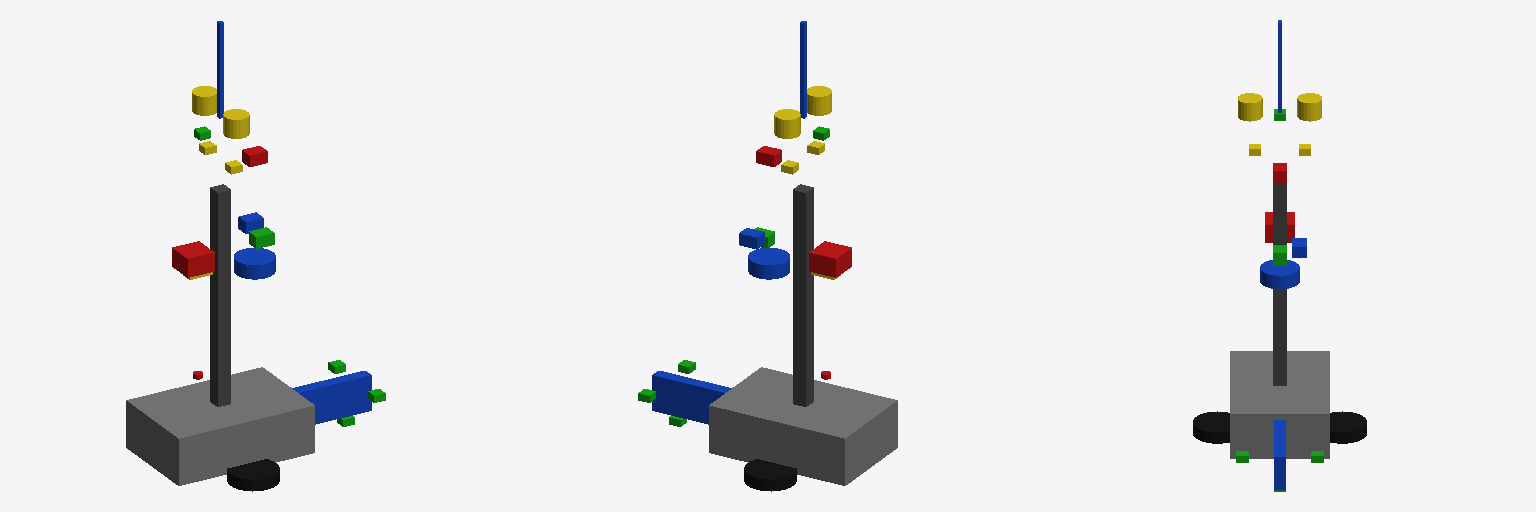
robot.urdf — patrol_security_bot:
<?xml version="1.0"?>
<robot name="patrol_security_bot" xmlns:xacro="http://www.ros.org/wiki/xacro">

  <!-- ================== MATERIALS ================== -->
  <material name="gray">
    <color rgba="0.5 0.5 0.5 1.0"/>
  </material>
  <material name="dark_gray">
    <color rgba="0.3 0.3 0.3 1.0"/>
  </material>
  <material name="black">
    <color rgba="0.1 0.1 0.1 1.0"/>
  </material>
  <material name="blue">
    <color rgba="0.1 0.3 0.8 1.0"/>
  </material>
  <material name="green">
    <color rgba="0.1 0.7 0.1 1.0"/>
  </material>
  <material name="red">
    <color rgba="0.8 0.1 0.1 1.0"/>
  </material>
  <material name="yellow">
    <color rgba="0.9 0.8 0.1 1.0"/>
  </material>

  <!-- ================== BASE BODY ================== -->
  <link name="base_link">
    <inertial>
      <origin xyz="0 0 0" rpy="0 0 0"/>
      <mass value="20.0"/>
      <!-- kabaca box(0.6,0.4,0.2) için atalet -->
      <inertia ixx="0.33" ixy="0.0" ixz="0.0"
               iyy="0.67" iyz="0.0"
               izz="0.87"/>
    </inertial>

    <!-- görsel: STL gövde -->
    <visual>
      <origin xyz="0 0 0" rpy="0 0 0"/>
      <geometry>
        <mesh filename="../meshes/base/base_body.stl" scale="1 1 1"/>
      </geometry>
      <material name="gray"/>
    </visual>

    <!-- çarpışma: basit kutu -->
    <collision>
      <origin xyz="0 0 0" rpy="0 0 0"/>
      <geometry>
        <box size="0.6 0.4 0.2"/>
      </geometry>
    </collision>
  </link>

  <!-- ================== DRIVE SİSTEMİ ================== -->

  <!-- Sol tahrik tekeri -->
  <link name="left_wheel_link">
    <inertial>
      <origin xyz="0 0 0" rpy="0 0 0"/>
      <mass value="2.0"/>
      <inertia ixx="0.01" ixy="0" ixz="0"
               iyy="0.01" iyz="0"
               izz="0.01"/>
    </inertial>
    <visual>
      <origin xyz="0 0 0" rpy="0 0 0"/>
      <geometry>
        <mesh filename="../meshes/drive/wheel.stl" scale="1 1 1"/>
      </geometry>
      <material name="black"/>
    </visual>
    <collision>
      <origin xyz="0 0 0" rpy="0 0 0"/>
      <geometry>
        <cylinder radius="0.1" length="0.05"/>
      </geometry>
    </collision>
  </link>

  <joint name="left_wheel_joint" type="continuous">
    <!-- base_link koordinatında x:0, y:sol(+), z:tabana yakın -->
    <origin xyz="0 0.25 -0.1" rpy="0 0 0"/>
    <parent link="base_link"/>
    <child link="left_wheel_link"/>
    <axis xyz="0 0 1"/>
  </joint>

  <!-- Sağ tahrik tekeri -->
  <link name="right_wheel_link">
    <inertial>
      <origin xyz="0 0 0" rpy="0 0 0"/>
      <mass value="2.0"/>
      <inertia ixx="0.01" ixy="0" ixz="0"
               iyy="0.01" iyz="0"
               izz="0.01"/>
    </inertial>
    <visual>
      <origin xyz="0 0 0" rpy="0 0 0"/>
      <geometry>
        <mesh filename="../meshes/drive/wheel.stl" scale="1 1 1"/>
      </geometry>
      <material name="black"/>
    </visual>
    <collision>
      <origin xyz="0 0 0" rpy="0 0 0"/>
      <geometry>
        <cylinder radius="0.1" length="0.05"/>
      </geometry>
    </collision>
  </link>

  <joint name="right_wheel_joint" type="continuous">
    <origin xyz="0 -0.25 -0.1" rpy="0 0 0"/>
    <parent link="base_link"/>
    <child link="right_wheel_link"/>
    <axis xyz="0 0 1"/>
  </joint>

  <!-- Arka avare/caster teker -->
  <link name="rear_caster_link">
    <inertial>
      <origin xyz="0 0 0" rpy="0 0 0"/>
      <mass value="0.5"/>
      <inertia ixx="0.001" ixy="0" ixz="0"
               iyy="0.001" iyz="0"
               izz="0.001"/>
    </inertial>
    <visual>
      <origin xyz="0 0 0" rpy="0 0 0"/>
      <geometry>
        <mesh filename="../meshes/drive/caster_wheel.stl" scale="1 1 1"/>
      </geometry>
      <material name="dark_gray"/>
    </visual>
    <collision>
      <origin xyz="0 0 0" rpy="0 0 0"/>
      <geometry>
        <cylinder radius="0.05" length="0.03"/>
      </geometry>
    </collision>
  </link>

  <!-- İstersen type="continuous" yapıp z etrafında döner caster olarak modelleyebilirsin -->
  <joint name="rear_caster_joint" type="fixed">
    <origin xyz="-0.25 0 -0.05" rpy="0 0 0"/>
    <parent link="base_link"/>
    <child link="rear_caster_link"/>
  </joint>

  <!-- ================== ÖN BUMPER MODÜLÜ ================== -->

  <link name="front_bumper_link">
    <inertial>
      <origin xyz="0 0 0" rpy="0 0 0"/>
      <mass value="1.0"/>
      <inertia ixx="0.01" ixy="0" ixz="0"
               iyy="0.02" iyz="0"
               izz="0.03"/>
    </inertial>
    <visual>
      <origin xyz="0 0 0" rpy="0 0 0"/>
      <geometry>
        <mesh filename="../meshes/bumper/front_bumper.stl" scale="1 1 1"/>
      </geometry>
      <material name="blue"/>
    </visual>
    <collision>
      <origin xyz="0 0 0" rpy="0 0 0"/>
      <geometry>
        <box size="0.6 0.05 0.15"/>
      </geometry>
    </collision>
  </link>

  <!-- Bumper'ı base_link'e prismatic olarak bağlayıp yaylı tampon gibi gösteriyoruz -->
  <joint name="front_bumper_joint" type="prismatic">
    <origin xyz="0.35 0 0" rpy="0 0 0"/>
    <parent link="base_link"/>
    <child link="front_bumper_link"/>
    <axis xyz="1 0 0"/>
    <limit lower="-0.03" upper="0.0" effort="100" velocity="0.2"/>
  </joint>

  <!-- Bumper üzerindeki yakın mesafe IR sensörleri -->
  <link name="ir_front_left_link">
    <visual>
      <origin xyz="0.25 0.15 0.0" rpy="0 0 0"/>
      <geometry>
        <mesh filename="../meshes/sensors/env_sensor_box.stl" scale="1 1 1"/>
      </geometry>
      <material name="green"/>
    </visual>
    <collision>
      <origin xyz="0.25 0.15 0.0" rpy="0 0 0"/>
      <geometry>
        <box size="0.05 0.05 0.03"/>
      </geometry>
    </collision>
  </link>
  <joint name="ir_front_left_joint" type="fixed">
    <origin xyz="0 0 0.05" rpy="0 0 0"/>
    <parent link="front_bumper_link"/>
    <child link="ir_front_left_link"/>
  </joint>

  <link name="ir_front_right_link">
    <visual>
      <origin xyz="0.25 -0.15 0.0" rpy="0 0 0"/>
      <geometry>
        <mesh filename="../meshes/sensors/env_sensor_box.stl" scale="1 1 1"/>
      </geometry>
      <material name="green"/>
    </visual>
    <collision>
      <origin xyz="0.25 -0.15 0.0" rpy="0 0 0"/>
      <geometry>
        <box size="0.05 0.05 0.03"/>
      </geometry>
    </collision>
  </link>
  <joint name="ir_front_right_joint" type="fixed">
    <origin xyz="0 0 0.05" rpy="0 0 0"/>
    <parent link="front_bumper_link"/>
    <child link="ir_front_right_link"/>
  </joint>

  <!-- Zemine bakan kısa menzilli sensör -->
  <link name="ir_floor_center_link">
    <visual>
      <origin xyz="0.2 0 -0.05" rpy="0 0 0"/>
      <geometry>
        <mesh filename="../meshes/sensors/env_sensor_box.stl" scale="1 1 1"/>
      </geometry>
      <material name="green"/>
    </visual>
    <collision>
      <origin xyz="0.2 0 -0.05" rpy="0 0 0"/>
      <geometry>
        <box size="0.05 0.05 0.03"/>
      </geometry>
    </collision>
  </link>
  <joint name="ir_floor_center_joint" type="fixed">
    <origin xyz="0 0 -0.05" rpy="0 0 0"/>
    <parent link="front_bumper_link"/>
    <child link="ir_floor_center_link"/>
  </joint>

  <!-- ================== MAST / SENSÖR KULESİ ================== -->

  <!-- Mast taban segmenti -->
  <link name="mast_base_link">
    <inertial>
      <origin xyz="0 0 0" rpy="0 0 0"/>
      <mass value="1.0"/>
      <inertia ixx="0.005" ixy="0" ixz="0"
               iyy="0.005" iyz="0"
               izz="0.005"/>
    </inertial>
    <visual>
      <origin xyz="0 0 0" rpy="0 0 0"/>
      <geometry>
        <mesh filename="../meshes/mast/mast_segment.stl" scale="1 1 1"/>
      </geometry>
      <material name="dark_gray"/>
    </visual>
    <collision>
      <origin xyz="0 0 0" rpy="0 0 0"/>
      <geometry>
        <box size="0.06 0.06 0.3"/>
      </geometry>
    </collision>
  </link>

  <joint name="mast_base_joint" type="fixed">
    <!-- gövdenin üstünden çıkıyor: z ~0.2/2 + 0.3/2 = 0.25 -->
    <origin xyz="0 0 0.25" rpy="0 0 0"/>
    <parent link="base_link"/>
    <child link="mast_base_link"/>
  </joint>

  <!-- Mast orta segmenti -->
  <link name="mast_mid_link">
    <inertial>
      <origin xyz="0 0 0" rpy="0 0 0"/>
      <mass value="0.8"/>
      <inertia ixx="0.004" ixy="0" ixz="0"
               iyy="0.004" iyz="0"
               izz="0.004"/>
    </inertial>
    <visual>
      <origin xyz="0 0 0" rpy="0 0 0"/>
      <geometry>
        <mesh filename="../meshes/mast/mast_segment.stl" scale="1 1 1"/>
      </geometry>
      <material name="dark_gray"/>
    </visual>
    <collision>
      <origin xyz="0 0 0" rpy="0 0 0"/>
      <geometry>
        <box size="0.06 0.06 0.3"/>
      </geometry>
    </collision>
  </link>

  <joint name="mast_mid_joint" type="fixed">
    <!-- mast_base üstüne ekleniyor -->
    <origin xyz="0 0 0.3" rpy="0 0 0"/>
    <parent link="mast_base_link"/>
    <child link="mast_mid_link"/>
  </joint>

  <!-- Mast üst segmenti -->
  <link name="mast_top_link">
    <inertial>
      <origin xyz="0 0 0" rpy="0 0 0"/>
      <mass value="0.8"/>
      <inertia ixx="0.004" ixy="0" ixz="0"
               iyy="0.004" iyz="0"
               izz="0.004"/>
    </inertial>
    <visual>
      <origin xyz="0 0 0" rpy="0 0 0"/>
      <geometry>
        <mesh filename="../meshes/mast/mast_segment.stl" scale="1 1 1"/>
      </geometry>
      <material name="dark_gray"/>
    </visual>
    <collision>
      <origin xyz="0 0 0" rpy="0 0 0"/>
      <geometry>
        <box size="0.06 0.06 0.3"/>
      </geometry>
    </collision>
  </link>

  <joint name="mast_top_joint" type="fixed">
    <origin xyz="0 0 0.3" rpy="0 0 0"/>
    <parent link="mast_mid_link"/>
    <child link="mast_top_link"/>
  </joint>

  <!-- ================== MAST ÜZERİNDE SENSÖRLER (ORTA) ================== -->

  <!-- Mast ortasında 2D LiDAR -->
  <link name="lidar_link">
    <visual>
      <origin xyz="0.15 0 0.0" rpy="0 0 0"/>
      <geometry>
        <mesh filename="../meshes/sensors/lidar.stl" scale="1 1 1"/>
      </geometry>
      <material name="blue"/>
    </visual>
    <collision>
      <origin xyz="0.15 0 0.0" rpy="0 0 0"/>
      <geometry>
        <cylinder radius="0.08" length="0.06"/>
      </geometry>
    </collision>
  </link>
  <joint name="lidar_joint" type="fixed">
    <origin xyz="0 0 0.1" rpy="0 0 0"/>
    <parent link="mast_mid_link"/>
    <child link="lidar_link"/>
  </joint>

  <!-- Ön RGB kamera -->
  <link name="camera_rgb_front_link">
    <visual>
      <origin xyz="0.18 0 0.05" rpy="0 0 0"/>
      <geometry>
        <mesh filename="../meshes/sensors/camera_box.stl" scale="1 1 1"/>
      </geometry>
      <material name="green"/>
    </visual>
    <collision>
      <origin xyz="0.18 0 0.05" rpy="0 0 0"/>
      <geometry>
        <box size="0.08 0.06 0.05"/>
      </geometry>
    </collision>
  </link>
  <joint name="camera_rgb_front_joint" type="fixed">
    <origin xyz="0 0 0.15" rpy="0 0 0"/>
    <parent link="mast_mid_link"/>
    <child link="camera_rgb_front_link"/>
  </joint>

  <!-- Ön derinlik kamerası -->
  <link name="camera_depth_front_link">
    <visual>
      <origin xyz="0.18 0.08 0.05" rpy="0 0 0"/>
      <geometry>
        <mesh filename="../meshes/sensors/camera_box.stl" scale="1 1 1"/>
      </geometry>
      <material name="blue"/>
    </visual>
    <collision>
      <origin xyz="0.18 0.08 0.05" rpy="0 0 0"/>
      <geometry>
        <box size="0.08 0.06 0.05"/>
      </geometry>
    </collision>
  </link>
  <joint name="camera_depth_front_joint" type="fixed">
    <origin xyz="0 0 0.18" rpy="0 0 0"/>
    <parent link="mast_mid_link"/>
    <child link="camera_depth_front_link"/>
  </joint>

  <!-- Mast ortasında mikrofon array -->
  <link name="mic_array_link">
    <visual>
      <origin xyz="-0.1 0 0.0" rpy="0 0 0"/>
      <geometry>
        <mesh filename="../meshes/sensors/mic_array.stl" scale="1 1 1"/>
      </geometry>
      <material name="yellow"/>
    </visual>
    <collision>
      <origin xyz="-0.1 0 0.0" rpy="0 0 0"/>
      <geometry>
        <box size="0.1 0.05 0.02"/>
      </geometry>
    </collision>
  </link>
  <joint name="mic_array_joint" type="fixed">
    <origin xyz="0 0 0.12" rpy="0 0 0"/>
    <parent link="mast_mid_link"/>
    <child link="mic_array_link"/>
  </joint>

  <!-- Mast ortasında siren/hoparlör -->
  <link name="siren_link">
    <visual>
      <origin xyz="-0.12 0 0.1" rpy="0 0 0"/>
      <geometry>
        <mesh filename="../meshes/alarms/siren_box.stl" scale="1 1 1"/>
      </geometry>
      <material name="red"/>
    </visual>
    <collision>
      <origin xyz="-0.12 0 0.1" rpy="0 0 0"/>
      <geometry>
        <box size="0.12 0.12 0.08"/>
      </geometry>
    </collision>
  </link>
  <joint name="siren_joint" type="fixed">
    <origin xyz="0 0 0.08" rpy="0 0 0"/>
    <parent link="mast_mid_link"/>
    <child link="siren_link"/>
  </joint>

  <!-- ================== MAST ÜSTÜ (TAVAN/YÜKSEK SEVİYE SENSÖRLER) ================== -->

  <!-- Termal kamera -->
  <link name="camera_thermal_top_link">
    <visual>
      <origin xyz="0.15 0 0.1" rpy="0 0 0"/>
      <geometry>
        <mesh filename="../meshes/sensors/camera_box.stl" scale="1 1 1"/>
      </geometry>
      <material name="red"/>
    </visual>
    <collision>
      <origin xyz="0.15 0 0.1" rpy="0 0 0"/>
      <geometry>
        <box size="0.08 0.06 0.05"/>
      </geometry>
    </collision>
  </link>
  <joint name="camera_thermal_top_joint" type="fixed">
    <origin xyz="0 0 0.15" rpy="0 0 0"/>
    <parent link="mast_top_link"/>
    <child link="camera_thermal_top_link"/>
  </joint>

  <!-- CO2 sensörü -->
  <link name="co2_sensor_link">
    <visual>
      <origin xyz="0 0.1 0.1" rpy="0 0 0"/>
      <geometry>
        <mesh filename="../meshes/sensors/env_sensor_box.stl" scale="1 1 1"/>
      </geometry>
      <material name="yellow"/>
    </visual>
    <collision>
      <origin xyz="0 0.1 0.1" rpy="0 0 0"/>
      <geometry>
        <box size="0.05 0.05 0.03"/>
      </geometry>
    </collision>
  </link>
  <joint name="co2_sensor_joint" type="fixed">
    <origin xyz="0 0 0.18" rpy="0 0 0"/>
    <parent link="mast_top_link"/>
    <child link="co2_sensor_link"/>
  </joint>

  <!-- Gaz/smoke sensörü -->
  <link name="gas_sensor_link">
    <visual>
      <origin xyz="0 -0.1 0.1" rpy="0 0 0"/>
      <geometry>
        <mesh filename="../meshes/sensors/env_sensor_box.stl" scale="1 1 1"/>
      </geometry>
      <material name="yellow"/>
    </visual>
    <collision>
      <origin xyz="0 -0.1 0.1" rpy="0 0 0"/>
      <geometry>
        <box size="0.05 0.05 0.03"/>
      </geometry>
    </collision>
  </link>
  <joint name="gas_sensor_joint" type="fixed">
    <origin xyz="0 0 0.18" rpy="0 0 0"/>
    <parent link="mast_top_link"/>
    <child link="gas_sensor_link"/>
  </joint>

  <!-- Sıcaklık/nem sensörü -->
  <link name="temp_humid_sensor_link">
    <visual>
      <origin xyz="-0.08 0 0.18" rpy="0 0 0"/>
      <geometry>
        <mesh filename="../meshes/sensors/env_sensor_box.stl" scale="1 1 1"/>
      </geometry>
      <material name="green"/>
    </visual>
    <collision>
      <origin xyz="-0.08 0 0.18" rpy="0 0 0"/>
      <geometry>
        <box size="0.05 0.05 0.03"/>
      </geometry>
    </collision>
  </link>
  <joint name="temp_humid_sensor_joint" type="fixed">
    <origin xyz="0 0 0.22" rpy="0 0 0"/>
    <parent link="mast_top_link"/>
    <child link="temp_humid_sensor_link"/>
  </joint>

  <!-- Uyarı ışıkları (sol & sağ) -->
  <link name="warning_light_left_link">
    <visual>
      <origin xyz="0 0.12 0.22" rpy="0 0 0"/>
      <geometry>
        <mesh filename="../meshes/alarms/warning_light.stl" scale="1 1 1"/>
      </geometry>
      <material name="yellow"/>
    </visual>
    <collision>
      <origin xyz="0 0.12 0.22" rpy="0 0 0"/>
      <geometry>
        <cylinder radius="0.05" length="0.08"/>
      </geometry>
    </collision>
  </link>
  <joint name="warning_light_left_joint" type="fixed">
    <origin xyz="0 0 0.25" rpy="0 0 0"/>
    <parent link="mast_top_link"/>
    <child link="warning_light_left_link"/>
  </joint>

  <link name="warning_light_right_link">
    <visual>
      <origin xyz="0 -0.12 0.22" rpy="0 0 0"/>
      <geometry>
        <mesh filename="../meshes/alarms/warning_light.stl" scale="1 1 1"/>
      </geometry>
      <material name="yellow"/>
    </visual>
    <collision>
      <origin xyz="0 -0.12 0.22" rpy="0 0 0"/>
      <geometry>
        <cylinder radius="0.05" length="0.08"/>
      </geometry>
    </collision>
  </link>
  <joint name="warning_light_right_joint" type="fixed">
    <origin xyz="0 0 0.25" rpy="0 0 0"/>
    <parent link="mast_top_link"/>
    <child link="warning_light_right_link"/>
  </joint>

  <!-- Anten / haberleşme -->
  <link name="antenna_link">
    <visual>
      <origin xyz="0 0 0.35" rpy="0 0 0"/>
      <geometry>
        <mesh filename="../meshes/misc/antenna.stl" scale="1 1 1"/>
      </geometry>
      <material name="blue"/>
    </visual>
    <collision>
      <origin xyz="0 0 0.35" rpy="0 0 0"/>
      <geometry>
        <box size="0.02 0.02 0.4"/>
      </geometry>
    </collision>
  </link>
  <joint name="antenna_joint" type="fixed">
    <origin xyz="0 0 0.3" rpy="0 0 0"/>
    <parent link="mast_top_link"/>
    <child link="antenna_link"/>
  </joint>

  <!-- ================== ÜST GÖVDE ÜZERİNDE BUTON ================== -->

  <link name="emergency_button_link">
    <visual>
      <origin xyz="0 0 0.12" rpy="0 0 0"/>
      <geometry>
        <mesh filename="../meshes/misc/button.stl" scale="1 1 1"/>
      </geometry>
      <material name="red"/>
    </visual>
    <collision>
      <origin xyz="0 0 0.12" rpy="0 0 0"/>
      <geometry>
        <cylinder radius="0.02" length="0.02"/>
      </geometry>
    </collision>
  </link>

  <joint name="emergency_button_joint" type="fixed">
    <origin xyz="-0.1 0 0.12" rpy="0 0 0"/>
    <parent link="base_link"/>
    <child link="emergency_button_link"/>
  </joint>

</robot>

--- Render facts (derived) ---
Views: 3 orthographic renders of the robot side by side, from view 1: azimuth 30°, elevation 25°; view 2: azimuth 150°, elevation 25°; view 3: azimuth 270°, elevation 25°.
Robot: patrol_security_bot — 24 links, 23 joints (2 continuous, 1 prismatic, 20 fixed); root link base_link; default pose: all joints at 0.
Visible links, largest first — view 1: base_link, front_bumper_link, mast_top_link, mast_base_link, mast_mid_link, right_wheel_link, siren_link, lidar_link, warning_light_right_link, warning_light_left_link, antenna_link; view 2: base_link, front_bumper_link, mast_top_link, mast_base_link, mast_mid_link, left_wheel_link, siren_link, lidar_link, warning_light_left_link, warning_light_right_link, antenna_link; view 3: base_link, left_wheel_link, right_wheel_link, lidar_link, mast_base_link, mast_top_link, front_bumper_link, warning_light_left_link, warning_light_right_link.
Boxes of the visible links, left/top/right/bottom form: base_link: left=126, top=367, right=314, bottom=485; front_bumper_link: left=292, top=371, right=371, bottom=424; mast_top_link: left=210, top=184, right=230, bottom=263; mast_base_link: left=210, top=331, right=230, bottom=406; mast_mid_link: left=210, top=261, right=230, bottom=335; right_wheel_link: left=227, top=459, right=279, bottom=491; siren_link: left=172, top=241, right=214, bottom=277; lidar_link: left=234, top=248, right=275, bottom=279; warning_light_right_link: left=223, top=109, right=249, bottom=138; warning_light_left_link: left=192, top=86, right=216, bottom=115; antenna_link: left=217, top=21, right=223, bottom=118; base_link: left=709, top=367, right=897, bottom=485; front_bumper_link: left=652, top=371, right=731, bottom=424; mast_top_link: left=793, top=184, right=813, bottom=263; mast_base_link: left=793, top=331, right=813, bottom=406; mast_mid_link: left=793, top=261, right=813, bottom=335; left_wheel_link: left=744, top=459, right=796, bottom=491; siren_link: left=809, top=241, right=851, bottom=277; lidar_link: left=748, top=248, right=789, bottom=279; warning_light_left_link: left=774, top=109, right=800, bottom=138; warning_light_right_link: left=807, top=86, right=831, bottom=115; antenna_link: left=800, top=21, right=806, bottom=118; base_link: left=1230, top=351, right=1329, bottom=458; left_wheel_link: left=1330, top=411, right=1366, bottom=443; right_wheel_link: left=1193, top=411, right=1229, bottom=443; lidar_link: left=1260, top=260, right=1299, bottom=288; mast_base_link: left=1273, top=318, right=1286, bottom=385; mast_top_link: left=1273, top=183, right=1286, bottom=244; front_bumper_link: left=1274, top=420, right=1285, bottom=489; warning_light_left_link: left=1297, top=93, right=1321, bottom=121; warning_light_right_link: left=1238, top=93, right=1262, bottom=121.
Bounding box of the posed robot: 0.95 × 0.7 × 1.82 m (x, y, z).
24 mesh visuals loaded from 13 distinct referenced files (13 ASCII STL).